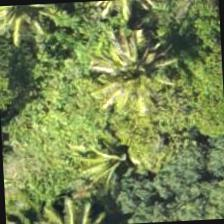Kelapa_Sawit: (82, 26, 176, 120)
